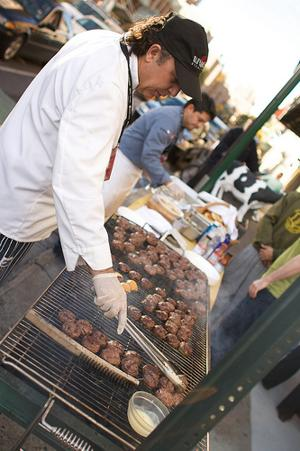person: (1, 13, 213, 339)
